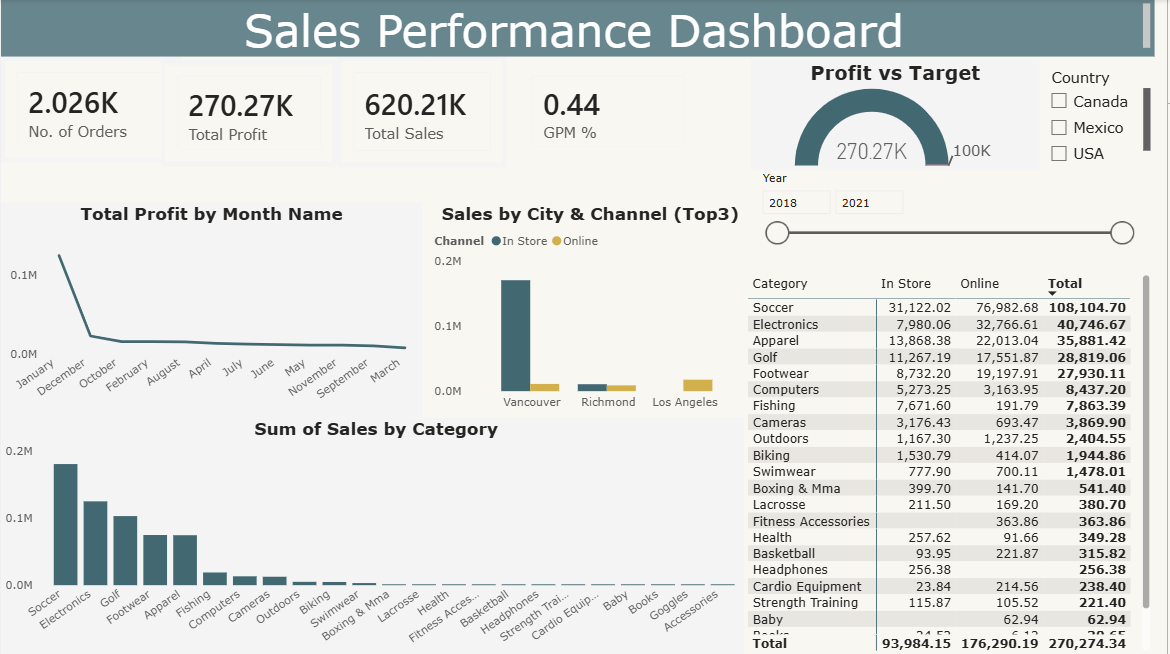

What the dashboard file says about the page in this screenshot:
{"tool":"powerbi","page":{"name":"Page 2","canvas":[1280,720],"ordinal":1},"visuals":[{"type":"columnChart","fields":{"Y":["Sum(Sales Table.Sales)"],"Category":["Product.Category"]},"box":[0,460,823.8,260],"z":0},{"type":"lineChart","fields":{"Category":["Sales Table.Month Name"],"Y":["Sales Table.Total Profit"]},"box":[0,223.7,462.4,236],"z":1000},{"type":"cardVisual","title":"No. of Orders","fields":{"Data":["CountNonNull(Sales Table.Order Id)"]},"box":[0,63.8,198.8,116.2],"z":2000},{"type":"cardVisual","fields":{"Data":["Sales Table.Total Profit"]},"box":[175.6,67.2,193.5,116.6],"z":3000},{"type":"cardVisual","fields":{"Data":["Sales Table.Total Sales"]},"box":[368.8,63.8,186.2,121.2],"z":4000},{"type":"slicer","fields":{"Values":["Sales Table.Country"]},"box":[1140.3,71.4,126.2,112.5],"z":5000},{"type":"slicer","fields":{"Values":["Sales Table.Year"]},"box":[823.3,183.9,428.1,115.3],"z":6000},{"type":"clusteredColumnChart","title":" Sales by City & Channel (Top3)","fields":{"Y":["Sum(Sales Table.Sales)"],"Category":["Sales Table.City"],"Series":["Sales Table.Channel"]},"box":[470.7,223.7,352.7,236],"z":7000},{"type":"gauge","title":"Profit vs Target","fields":{"Y":["Sales Table.Total Profit"],"MaxValue":["Sales Table.Target Profit"],"TargetValue":["Sales Table.Target Profit"]},"box":[823.3,67.2,317,120.8],"z":8000},{"type":"pivotTable","fields":{"Rows":["Product.Category"],"Columns":["Sales Table.Channel"],"Values":["Sum(Sales Table.Profit)"]},"box":[815.1,297.8,451.5,422.6],"z":9000},{"type":"textbox","box":[0,0,1266.6,63.1],"z":10000},{"type":"cardVisual","fields":{"Data":["Sales Table.GPM %"]},"box":[565.4,67.2,203.1,112.5],"z":11000}]}

Visuals, with their boxes in screenshot pixels (x1, y1, x2, y2), scaled from the page's 1280x720 canvas onto the 1170x654 screenshot:
columnChart - Sum(Sales Table.Sales) x Product.Category: [x1=0, y1=418, x2=753, y2=653]
lineChart - Sales Table.Month Name x Sales Table.Total Profit: [x1=0, y1=203, x2=423, y2=418]
"No. of Orders" cardVisual: [x1=0, y1=58, x2=182, y2=164]
cardVisual - Sales Table.Total Profit: [x1=161, y1=61, x2=337, y2=167]
cardVisual - Sales Table.Total Sales: [x1=337, y1=58, x2=507, y2=168]
slicer - Sales Table.Country: [x1=1042, y1=65, x2=1158, y2=167]
slicer - Sales Table.Year: [x1=753, y1=167, x2=1144, y2=272]
" Sales by City & Channel (Top3)" clusteredColumnChart: [x1=430, y1=203, x2=753, y2=418]
"Profit vs Target" gauge: [x1=753, y1=61, x2=1042, y2=171]
pivotTable - Product.Category x Sales Table.Channel: [x1=745, y1=271, x2=1158, y2=653]
textbox: [x1=0, y1=0, x2=1158, y2=57]
cardVisual - Sales Table.GPM %: [x1=517, y1=61, x2=702, y2=163]
